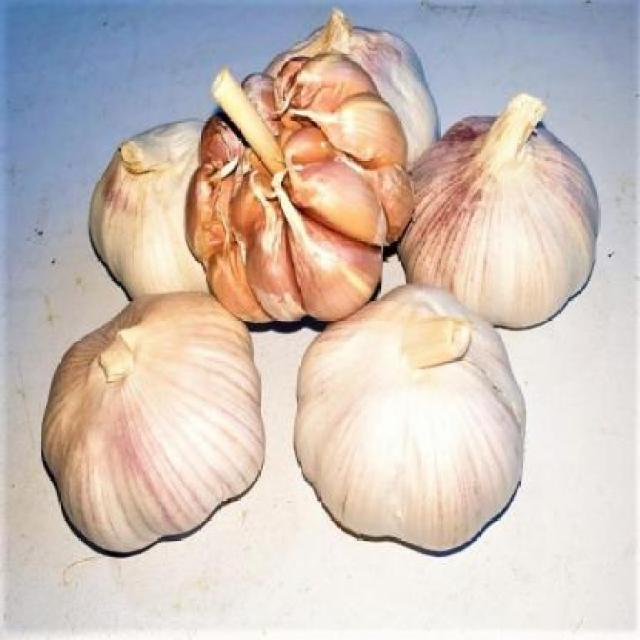garlic: (288, 282, 528, 564), (40, 288, 268, 560), (184, 58, 416, 324), (388, 96, 604, 329), (85, 114, 250, 300)
